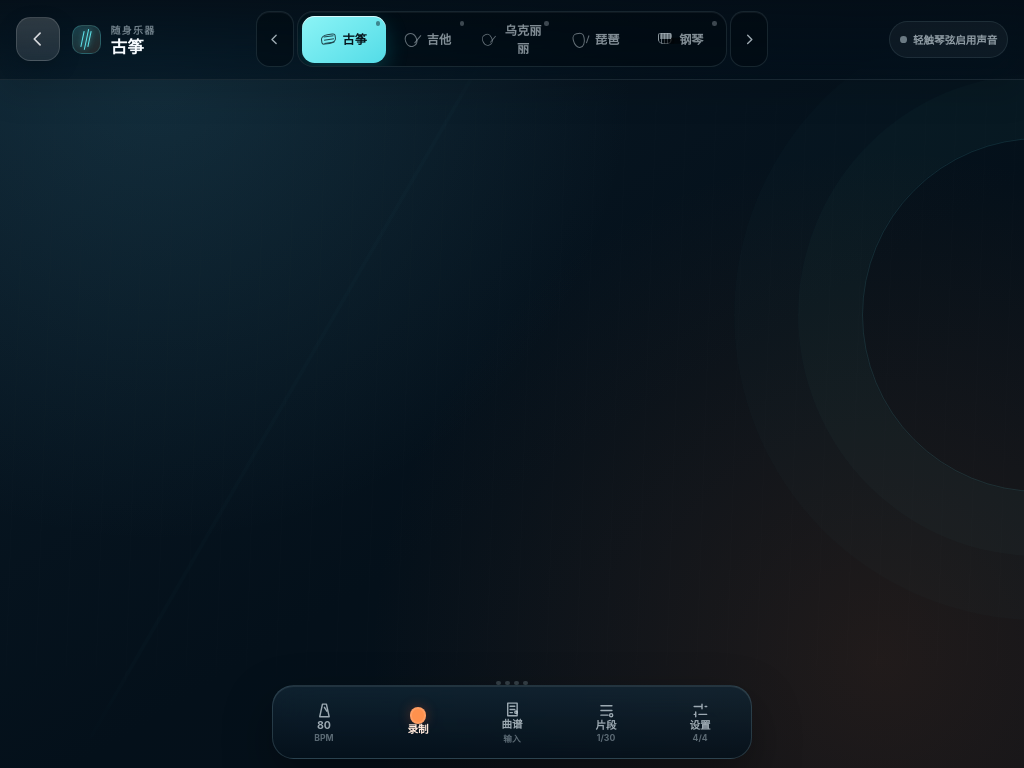
Scenario: 随身乐器页面流程 › 录音片段展示录制完成时间
This screenshot has width=1024, height=768.
Click the button with aria-label "打开已保存的练习录音列表" at (606, 722), box x1=562 y1=693 x2=650 y2=751
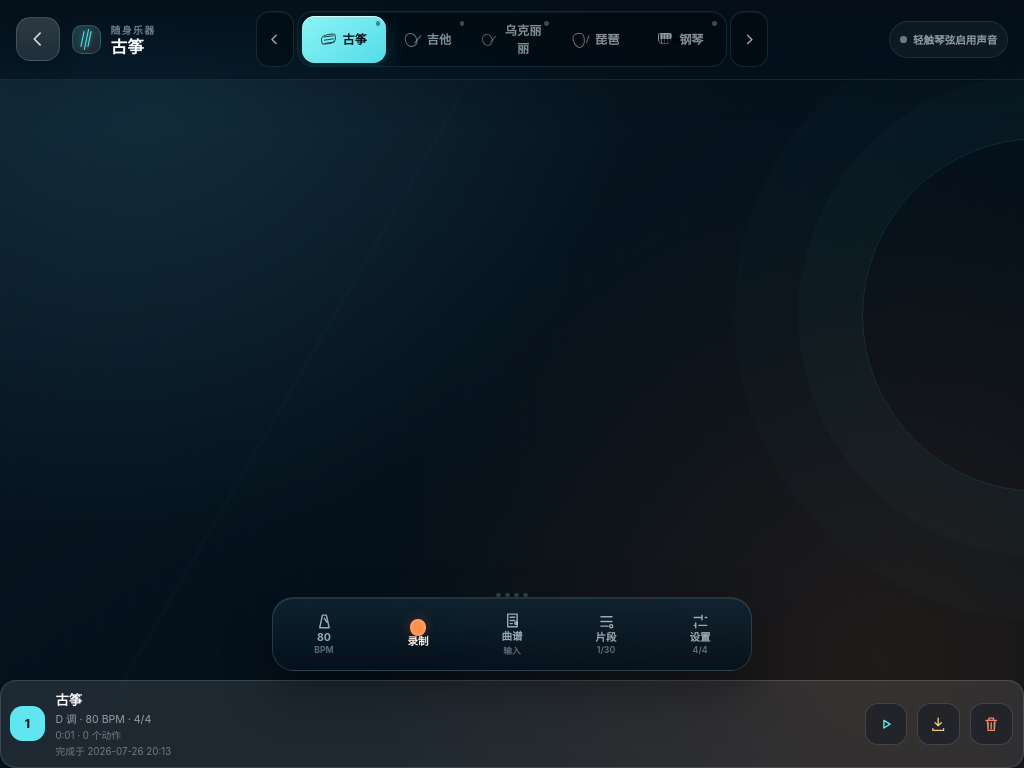
Expected: the element with class "take-copy" shows "完成于 2026-07-26 20:13", x1=55 y1=746 x2=171 y2=757
